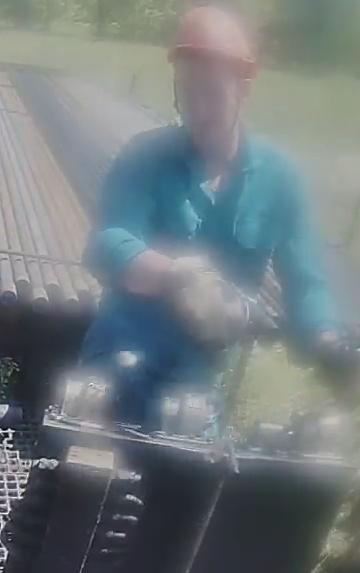gloves: (156, 249, 259, 358), (306, 326, 360, 404)
helmet: (167, 1, 261, 79)
vest: (82, 119, 325, 387)
